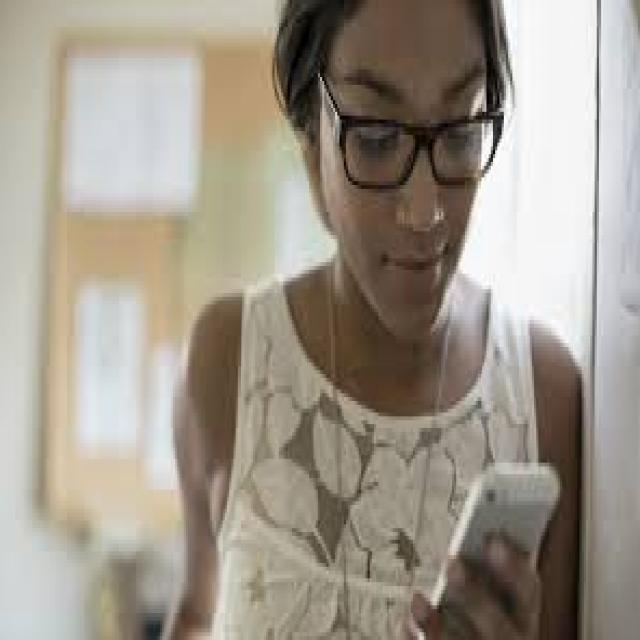Glasses: (318, 56, 504, 194)
